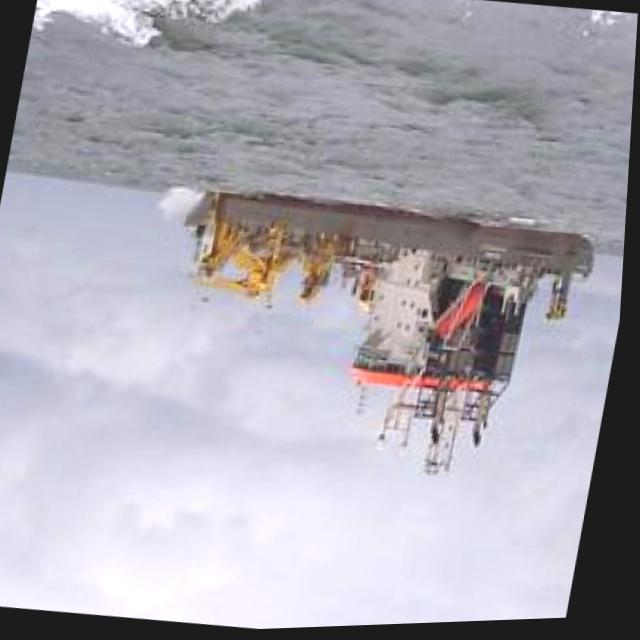ship2: (187, 192, 595, 468)
